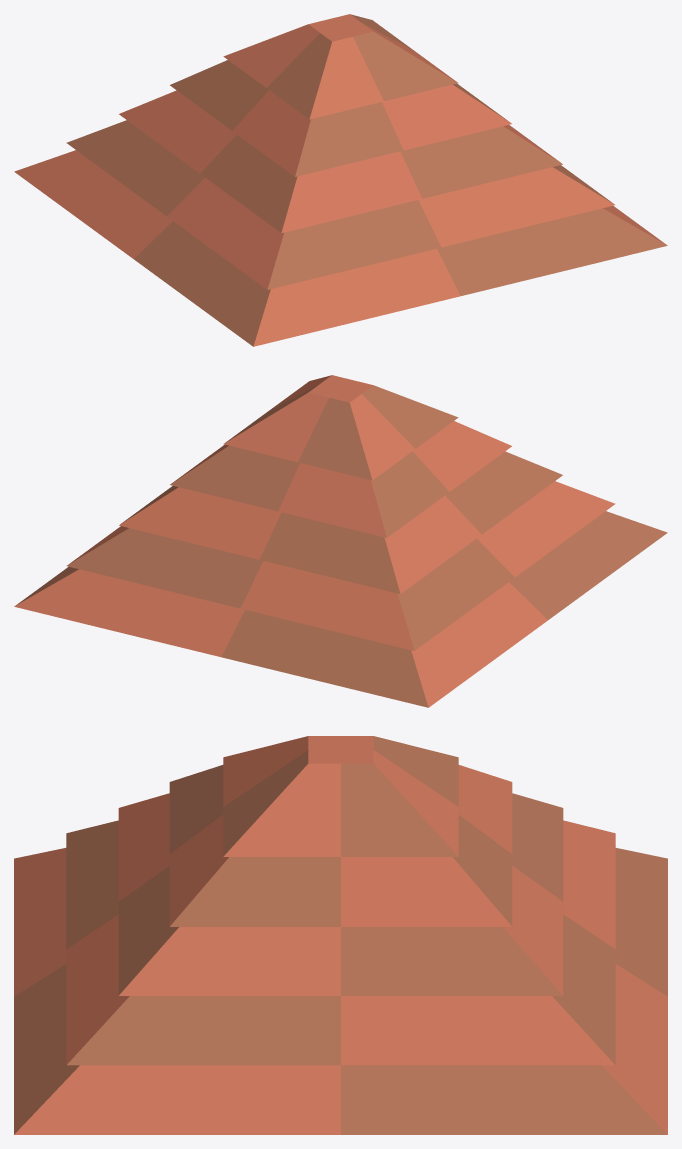
File: roman_roof_tile_square.fbx
The picture shows the model from 3 angles, top to bottom: view 1: azimuth 30°, elevation 25°; view 2: azimuth 150°, elevation 25°; view 3: azimuth 270°, elevation 25°; orthographic projection. The views are drawn at different scales.
Parts seen in each view (by area): view 1: Cube.057; view 2: Cube.057; view 3: Cube.057.
Boxes of the visible parts, box(x1,y1,x2,y2) form: Cube.057: box(14, 14, 667, 346); Cube.057: box(14, 375, 667, 707); Cube.057: box(14, 736, 667, 1134).
Bounding box in the file's own units: 3.6 × 1.5 × 3.6.
